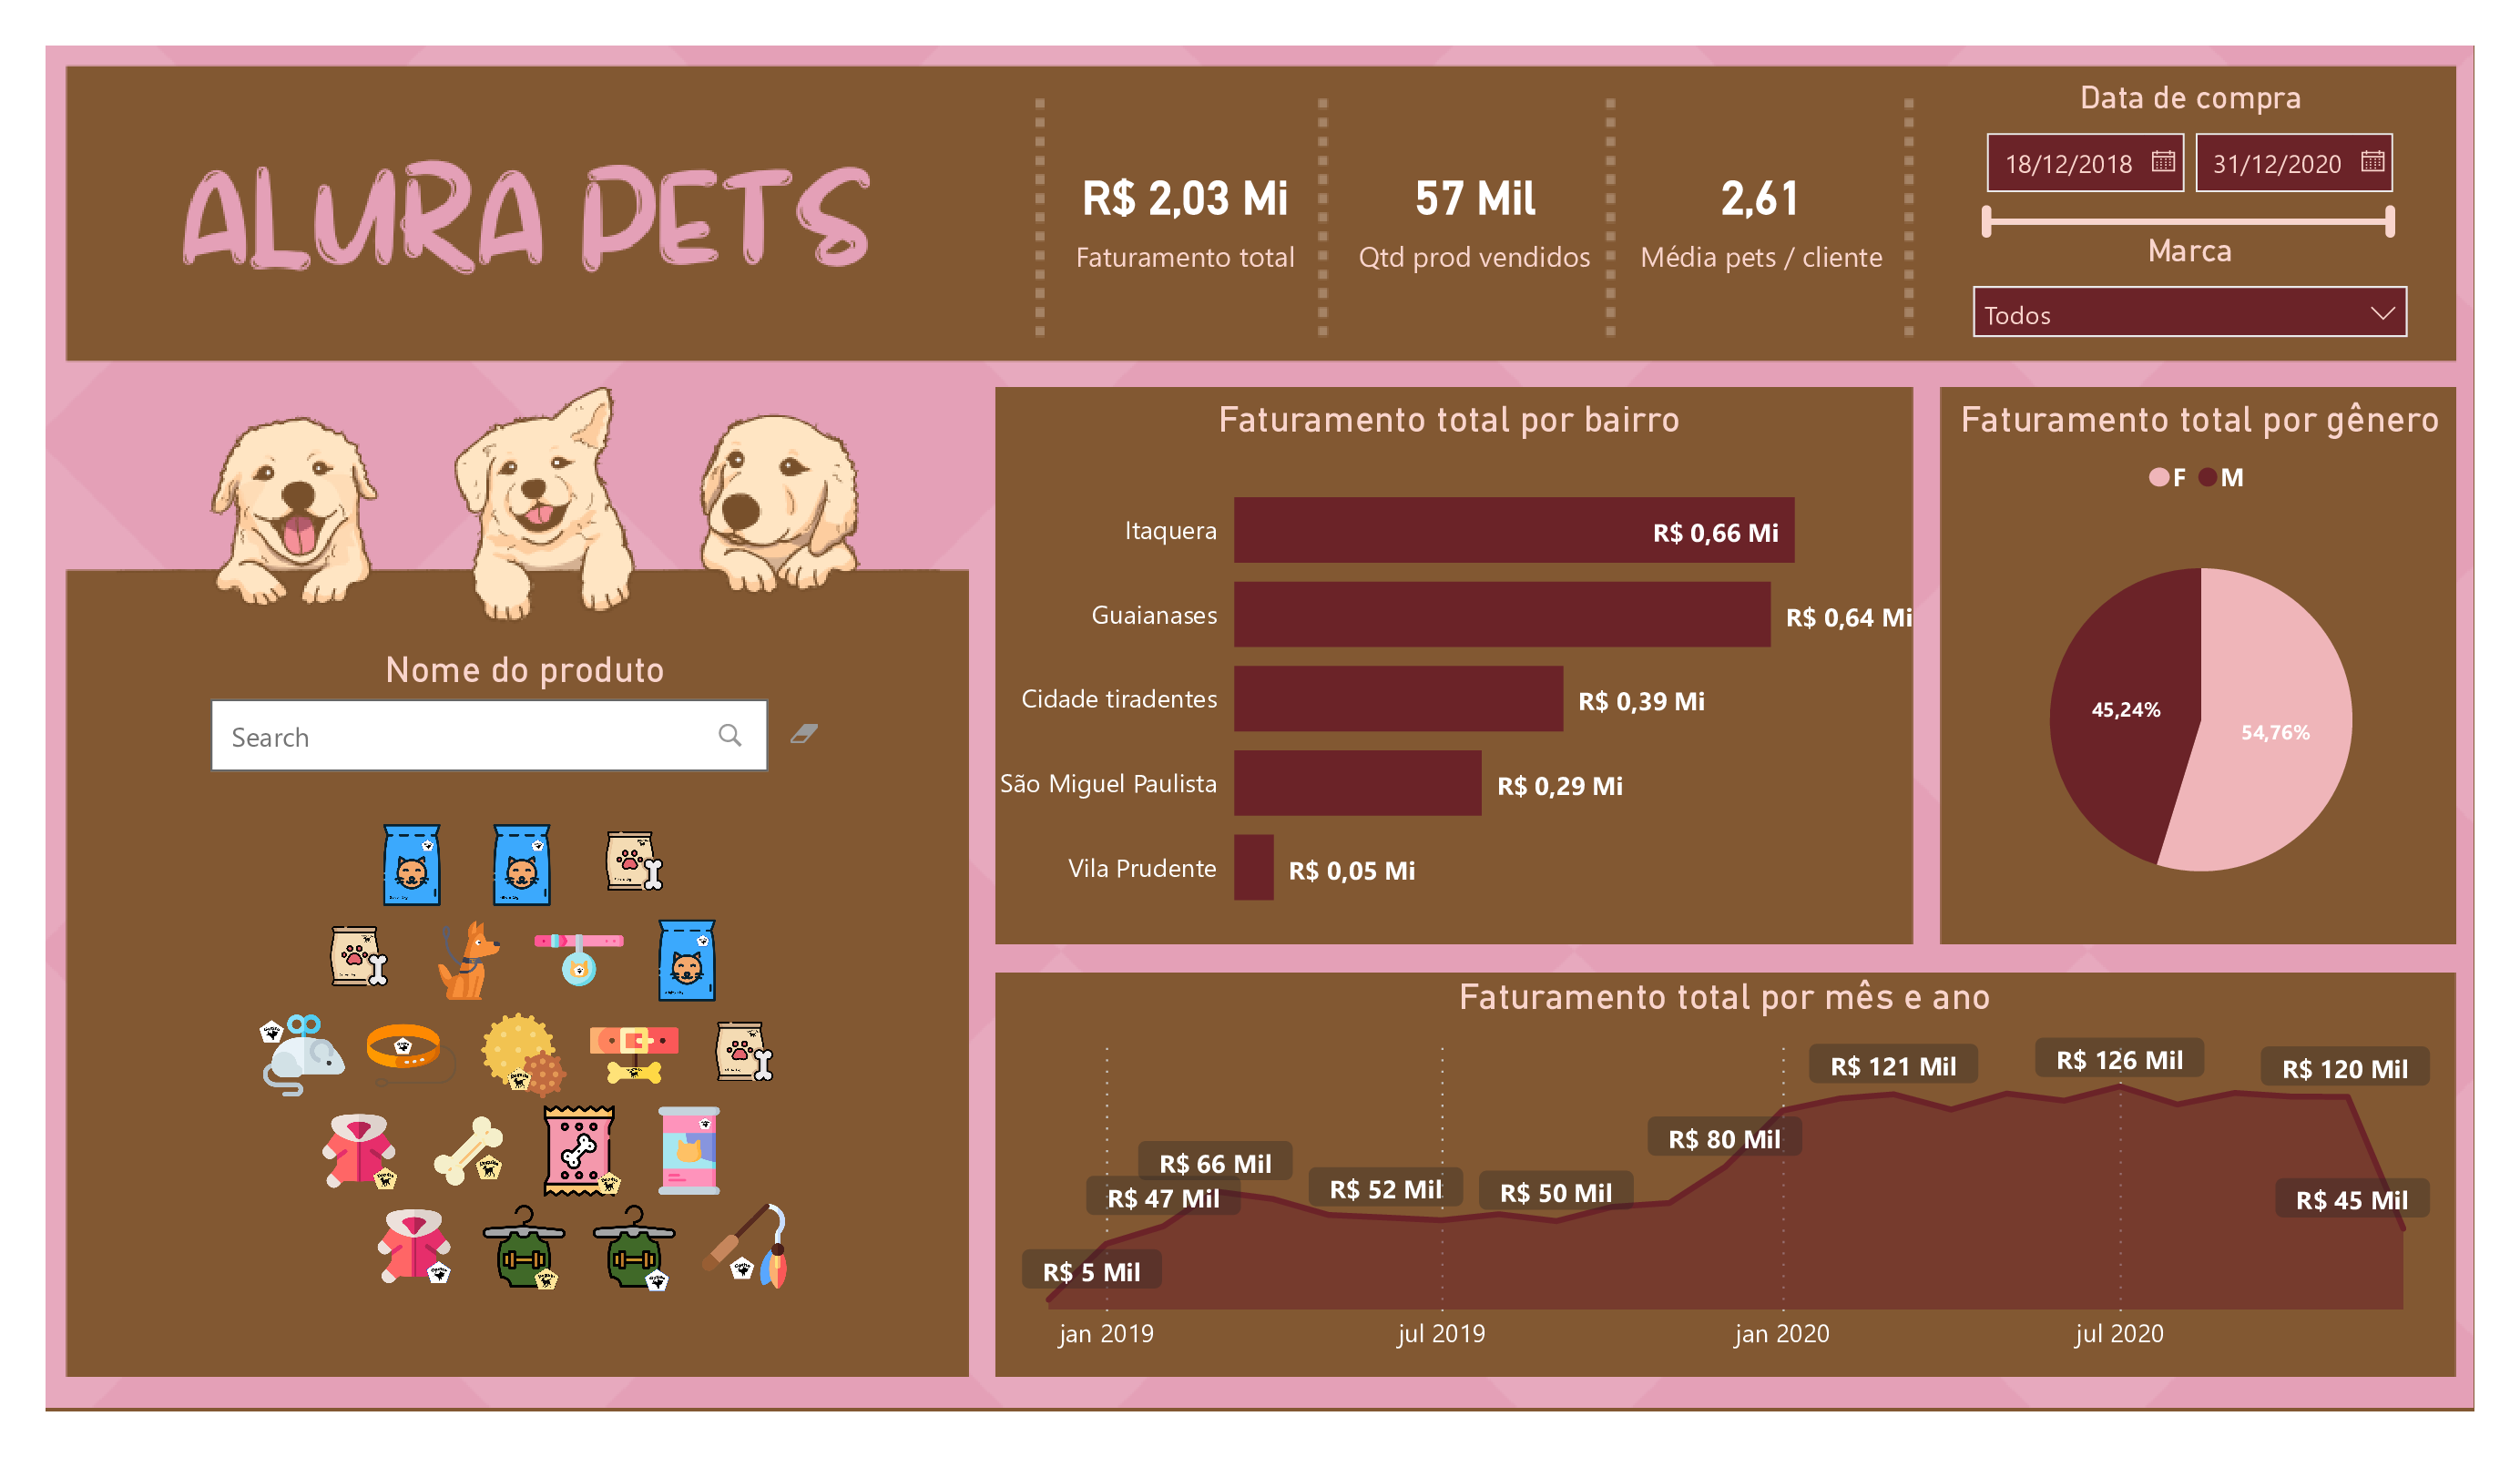

What the dashboard file says about the page in this screenshot:
{"tool":"powerbi","page":{"name":"Página 1","canvas":[1280,720],"ordinal":0},"visuals":[{"type":"card","fields":{"Values":["Vendas.Faturamento total"]},"box":[530.3,27.3,140.8,123.6],"z":0},{"type":"card","fields":{"Values":["Avg(Clientes.Pets)"]},"box":[835,27.3,139.4,123.6],"z":1000},{"type":"card","fields":{"Values":["Sum(Vendas.Quantidade)"]},"box":[671.1,27.3,163.8,123.6],"z":2000},{"type":"pieChart","title":"Faturamento total por gênero","fields":{"Category":["Clientes.Gênero"],"Y":["Vendas.Faturamento total"]},"box":[991.6,185.4,288.9,288.9],"z":3000},{"type":"clusteredBarChart","title":"Faturamento total por bairro","fields":{"Category":["Clientes.Bairro"],"Y":["Vendas.Faturamento total"]},"box":[488.6,185.4,503,288.9],"z":4000},{"type":"areaChart","title":"Faturamento total por mês e ano","fields":{"Category":["Vendas.Data de compra.Variation.Hierarquia de datas.Ano","Vendas.Data de compra.Variation.Hierarquia de datas.Trimestre","Vendas.Data de compra.Variation.Hierarquia de datas.Mês","Vendas.Data de compra.Variation.Hierarquia de datas.Dia"],"Y":["Vendas.Faturamento total"]},"box":[498.7,490.1,773.2,208.4],"z":5000},{"type":"ImageGrid_FC5183B9_926C_45E0_B5F7_0CE9EAF1DA9B","fields":{"ImageURLHQ":["Produtos.Url img"]},"box":[15.8,344.9,472.8,375.1],"z":6000},{"type":"textFilter25A4896A83E0487089E2B90C9AE57C8A","title":"Nome do produto","fields":{"field":["Produtos.Nome produto"]},"box":[81.9,317.6,342,86.2],"z":7000},{"type":"slicer","title":"Marca","fields":{"Values":["Produtos.Marca"]},"box":[1005.3,97.7,248.6,58.9],"z":8000},{"type":"slicer","title":"Data de compra","fields":{"Values":["Vendas.Data de compra"]},"box":[1009.6,17.2,241.4,161],"z":9000}]}

Visuals, with their boxes in screenshot pixels (x1, y1, x2, y2):
card - Vendas.Faturamento total: select_region(1052, 97, 1319, 331)
card - Avg(Clientes.Pets): select_region(1630, 97, 1894, 331)
card - Sum(Vendas.Quantidade): select_region(1319, 97, 1630, 331)
"Faturamento total por gênero" pieChart: select_region(1927, 397, 2474, 945)
"Faturamento total por bairro" clusteredBarChart: select_region(973, 397, 1927, 945)
"Faturamento total por mês e ano" areaChart: select_region(992, 975, 2459, 1370)
ImageGrid_FC5183B9_926C_45E0_B5F7_0CE9EAF1DA9B - Produtos.Url img: select_region(76, 700, 973, 1411)
"Nome do produto" textFilter25A4896A83E0487089E2B90C9AE57C8A: select_region(201, 648, 850, 811)
"Marca" slicer: select_region(1954, 231, 2425, 342)
"Data de compra" slicer: select_region(1962, 78, 2420, 383)
